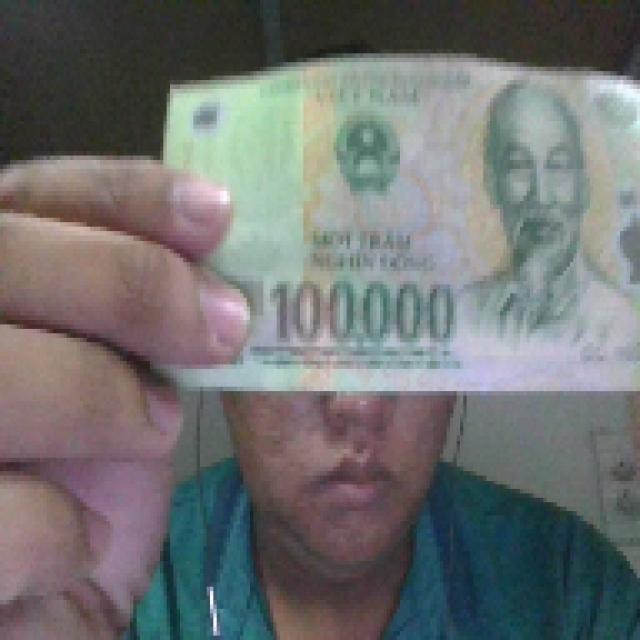100 000 VND: (153, 44, 637, 396)
